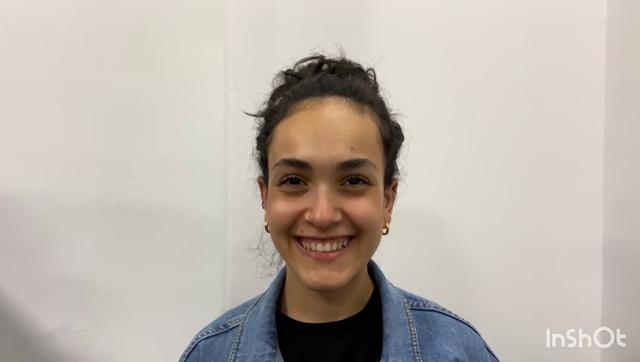senang: (263, 96, 386, 294)
